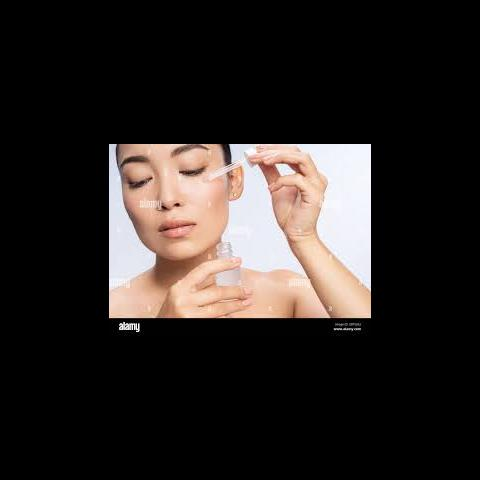closed: (117, 147, 215, 190)
